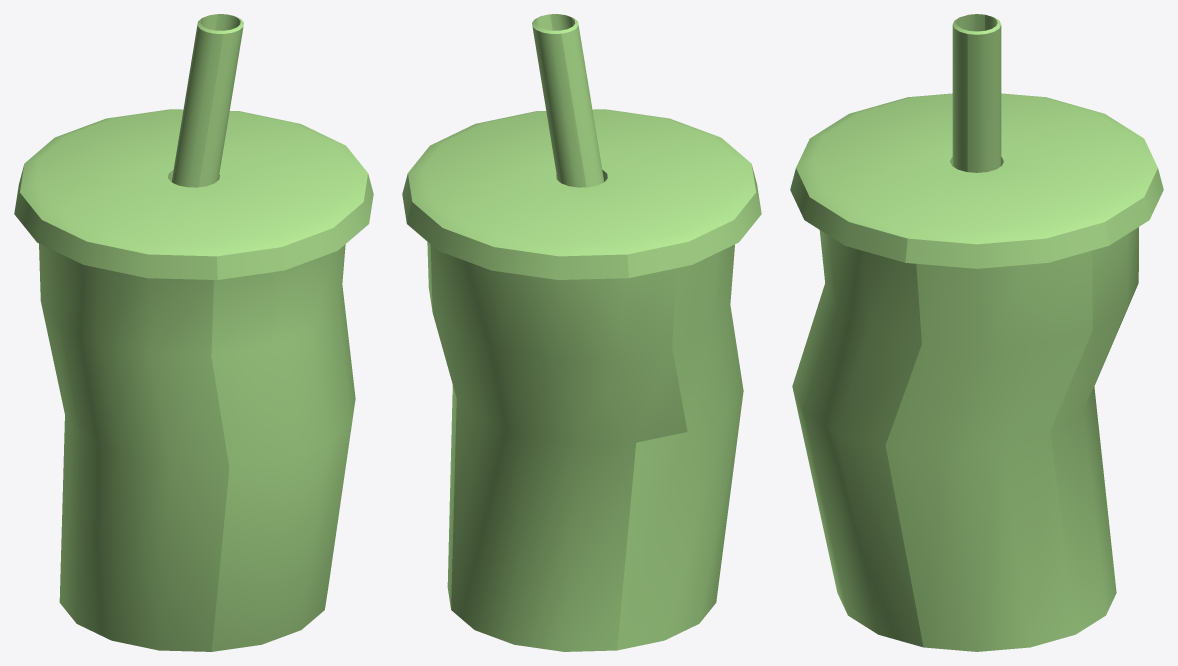
Rendered from glass.glb.
The picture shows the model from 3 angles, left to right: view 1: azimuth 30°, elevation 25°; view 2: azimuth 150°, elevation 25°; view 3: azimuth 270°, elevation 25°; orthographic projection. The views are drawn at different scales.
Parts seen in each view (by area): view 1: Cylinder_005_garbage_0; view 2: Cylinder_005_garbage_0; view 3: Cylinder_005_garbage_0.
Part boxes in pixels (x1,y1,x2,y2): Cylinder_005_garbage_0: (14,14,373,651); Cylinder_005_garbage_0: (402,14,761,651); Cylinder_005_garbage_0: (790,14,1163,651).
Bounding box in the file's own units: 2.66 × 4.58 × 2.66.
